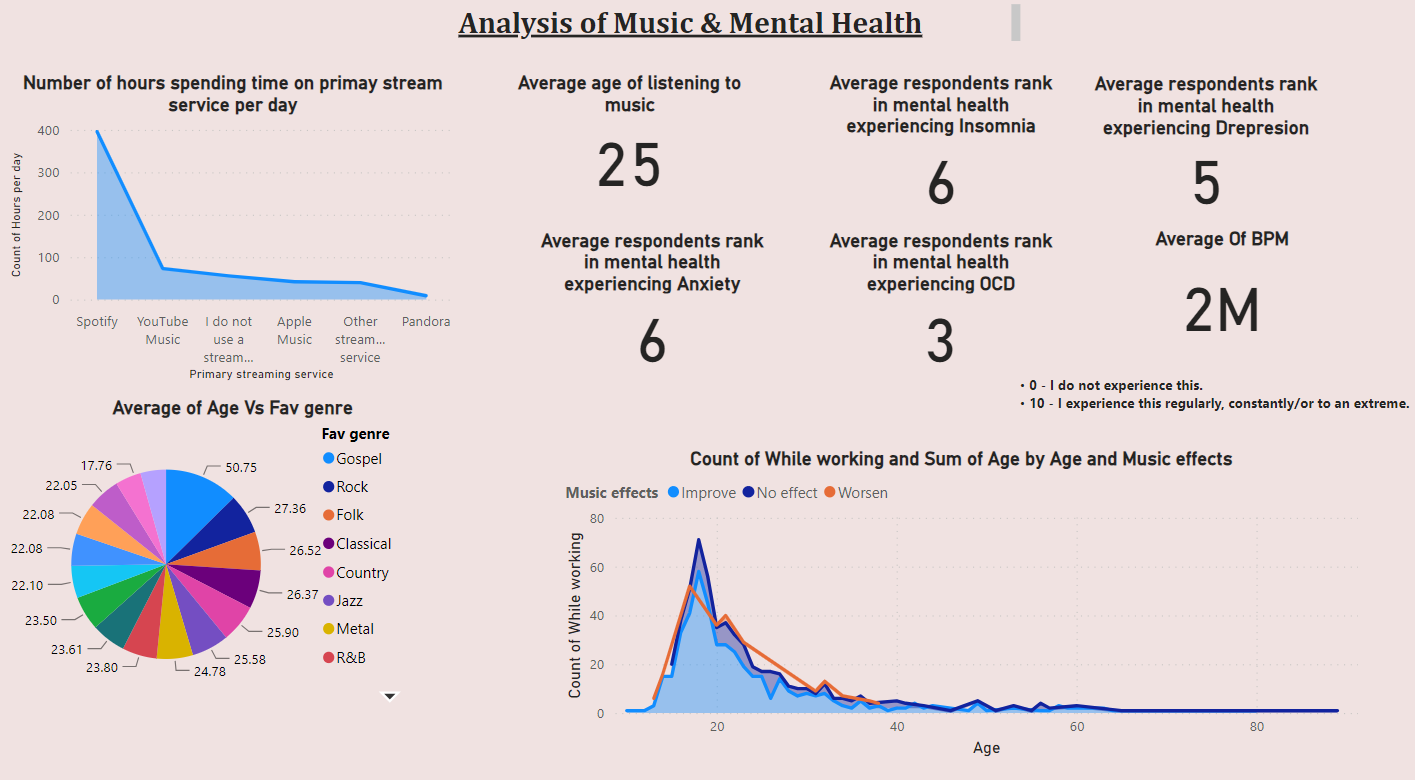

This screenshot's page, from the dashboard's own definition file:
{"tool":"powerbi","page":{"name":"Page 1","canvas":[1280,720],"ordinal":0},"visuals":[{"type":"areaChart","title":"Number of hours spending time on primay stream service per day","fields":{"Category":["mxmh_survey_results.Primary streaming service"],"Y":["CountNonNull(mxmh_survey_results.Hours per day)"]},"box":[12,80.7,406.2,280],"z":0},{"type":"card","title":"Average age of listening to music ","fields":{"Values":["Avg(mxmh_survey_results.Age)"]},"box":[457,80.7,222.5,113.8],"z":1000},{"type":"pieChart","title":"Average of Age Vs  Fav genre","fields":{"Category":["mxmh_survey_results.Fav genre"],"Y":["Avg(mxmh_survey_results.Age)"]},"box":[12,371,406,280],"z":2000},{"type":"card","title":"Average respondents rank in mental health experiencing Drepresion","fields":{"Values":["Avg(mxmh_survey_results.Depression)"]},"box":[970,82.5,222.5,125],"z":3000},{"type":"card","title":"Average respondents rank in mental health experiencing  OCD","fields":{"Values":["Avg(mxmh_survey_results.OCD)"]},"box":[735,221.2,222.5,126.2],"z":4000},{"type":"card","title":"Average respondents rank in mental health experiencing  Insomnia","fields":{"Values":["Avg(mxmh_survey_results.Anxiety)"]},"box":[735,81.2,222.5,126.2],"z":5000},{"type":"card","title":"Average respondents rank in mental health experiencing  Anxiety","fields":{"Values":["Avg(mxmh_survey_results.Anxiety)"]},"box":[477.5,221.2,222.5,126.2],"z":6000},{"type":"card","title":"Average Of BPM","fields":{"Values":["Avg(mxmh_survey_results.BPM)"]},"box":[984.5,220.7,222.5,113.8],"z":7000},{"type":"textbox","box":[331.2,16.2,590,50],"z":8000},{"type":"stackedAreaChart","fields":{"Category":["mxmh_survey_results.Age"],"Series":["mxmh_survey_results.Music effects"],"Y":["CountNonNull(mxmh_survey_results.While working)"]},"box":[506.2,416.2,715,280],"z":9000},{"type":"textbox","box":[901.2,347.5,378.8,71.2],"z":10000}]}

Visuals, with their boxes in screenshot pixels (x1, y1, x2, y2), scaled from the page's 1280x720 canvas onto the 1415x780 screenshot:
"Number of hours spending time on primay stream service per day" areaChart: Rect(13, 87, 462, 391)
"Average age of listening to music " card: Rect(505, 87, 751, 211)
"Average of Age Vs  Fav genre" pieChart: Rect(13, 402, 462, 705)
"Average respondents rank in mental health experiencing Drepresion" card: Rect(1072, 89, 1318, 225)
"Average respondents rank in mental health experiencing  OCD" card: Rect(813, 240, 1058, 376)
"Average respondents rank in mental health experiencing  Insomnia" card: Rect(813, 88, 1058, 225)
"Average respondents rank in mental health experiencing  Anxiety" card: Rect(528, 240, 774, 376)
"Average Of BPM" card: Rect(1088, 239, 1334, 362)
textbox: Rect(366, 18, 1018, 72)
stackedAreaChart - mxmh_survey_results.Age x mxmh_survey_results.Music effects: Rect(560, 451, 1350, 754)
textbox: Rect(996, 376, 1414, 454)
